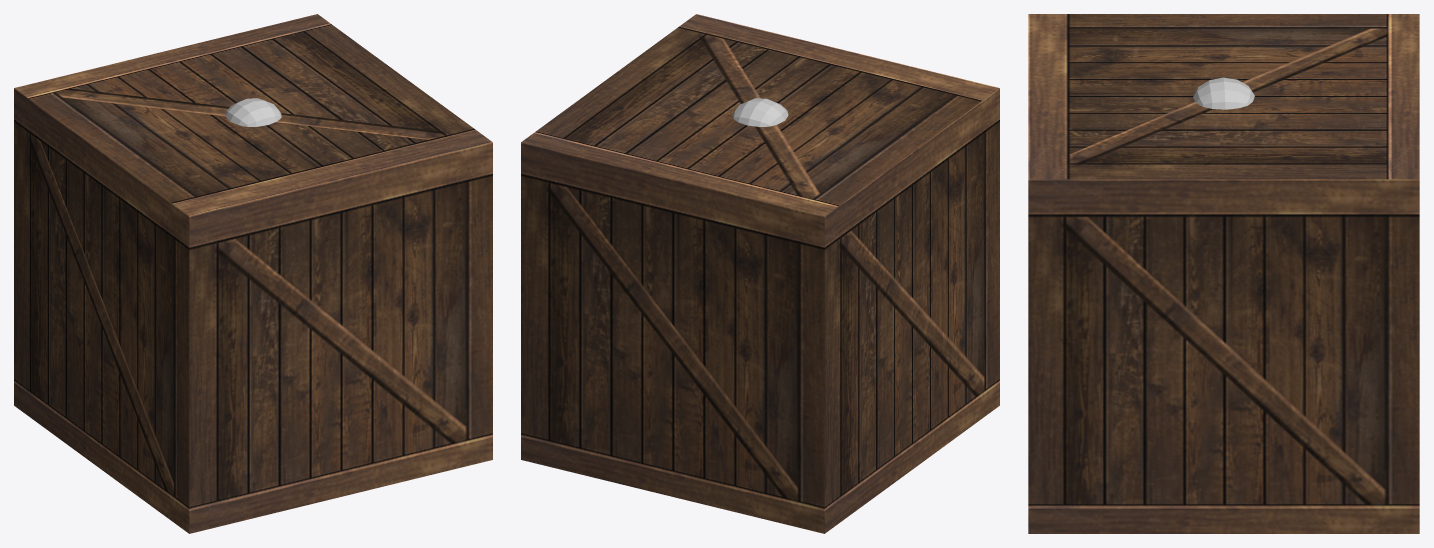
File: idol.obj
3 renders of one model, left to right at view 1: azimuth 30°, elevation 25°; view 2: azimuth 150°, elevation 25°; view 3: azimuth 270°, elevation 25°, orthographic. The views are drawn at different scales.
Visible parts, largest first — view 1: Cube.001, Cube; view 2: Cube.001, Cube; view 3: Cube.001, Cube.
Part boxes in pixels (bbox=[...]): Cube.001: bbox=[14, 14, 492, 533]; Cube: bbox=[225, 98, 281, 126]; Cube.001: bbox=[521, 14, 999, 533]; Cube: bbox=[732, 98, 788, 126]; Cube.001: bbox=[1028, 14, 1419, 533]; Cube: bbox=[1193, 77, 1254, 109].
Bounding box in the file's own units: 2 × 2.12 × 2.
